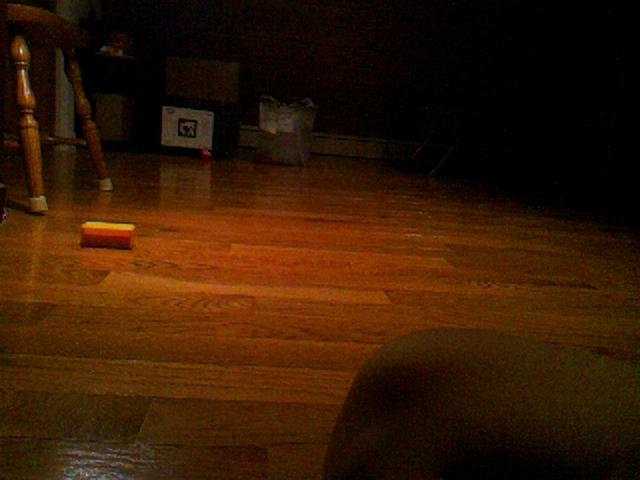yellow: (79, 220, 136, 251)
